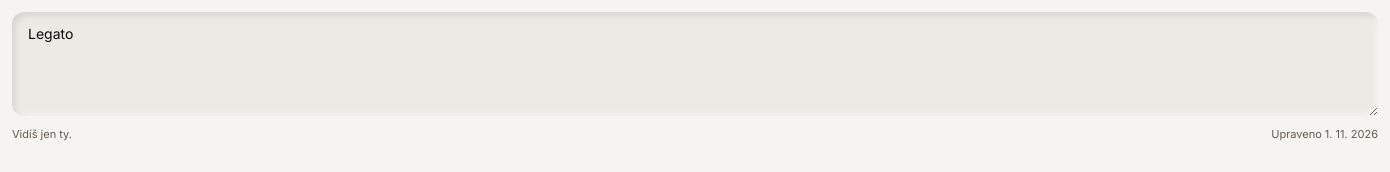
Test: StudentNotes › loads the note and saves a second after typing stops
Replace the text in the text box named "Moje poznámky k žákovi" with "Legato, takt 8": (695, 64) [12,12,1378,116]
Wait 1000 ms
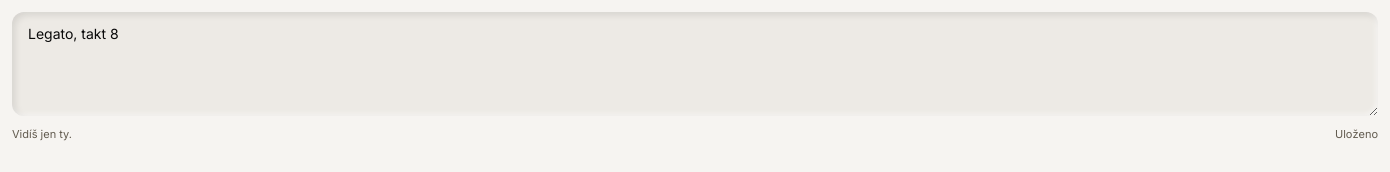
Result: the text "Uloženo" is shown at [1335,126,1378,142]
